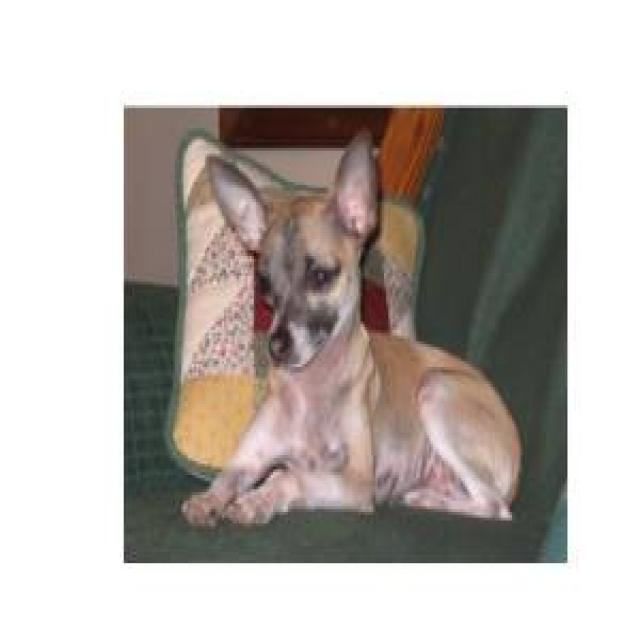dog-chihuahua: (183, 119, 525, 535)
